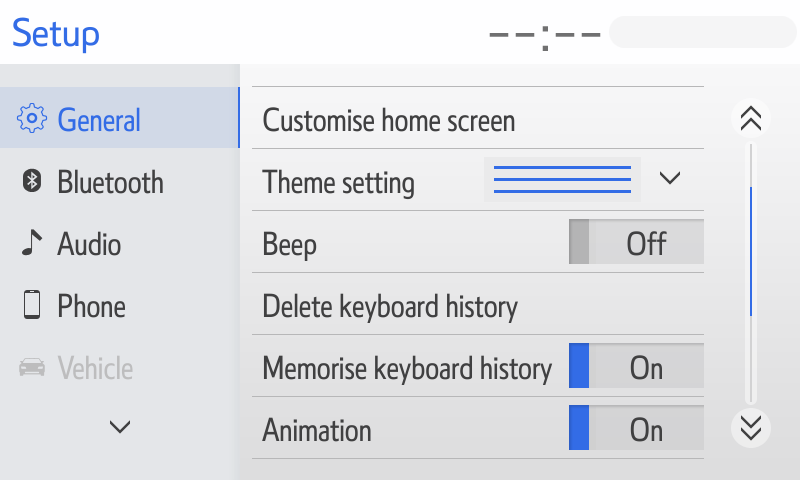touchPart: (249, 206, 707, 281), (247, 268, 705, 341), (245, 329, 706, 401), (247, 396, 708, 465), (249, 82, 708, 151), (250, 146, 705, 213), (10, 162, 177, 199), (10, 286, 135, 329), (17, 221, 125, 263), (732, 406, 779, 450), (104, 411, 139, 443), (734, 101, 769, 133)
untouchPart: (1, 85, 241, 150), (485, 8, 798, 56), (18, 347, 153, 391), (5, 7, 117, 56)
